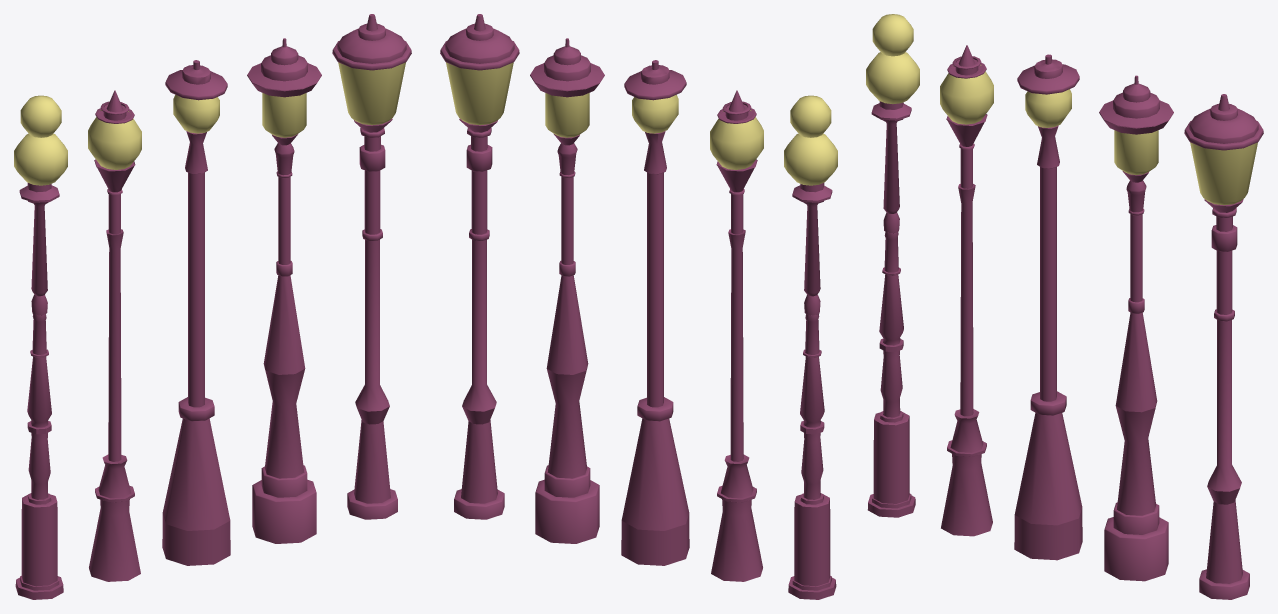
File: Lamps_low.fbx
3 views of the same model, side by side, from view 1: azimuth 30°, elevation 25°; view 2: azimuth 150°, elevation 25°; view 3: azimuth 330°, elevation 25° (orthographic).
Visible parts, largest first — view 1: 4_low, 3_low, 5_low, 1_low, 2_low; view 2: 4_low, 3_low, 5_low, 1_low, 2_low; view 3: 4_low, 3_low, 5_low, 1_low, 2_low.
Boxes of the visible parts, x1,y1,x2,y2 form: 4_low: (247, 38, 321, 543); 3_low: (162, 60, 230, 565); 5_low: (332, 14, 411, 519); 1_low: (14, 95, 67, 599); 2_low: (88, 90, 141, 581); 4_low: (530, 38, 604, 543); 3_low: (621, 60, 689, 565); 5_low: (440, 14, 519, 519); 1_low: (784, 95, 837, 599); 2_low: (710, 90, 763, 581); 4_low: (1099, 75, 1173, 581); 3_low: (1014, 54, 1082, 560); 5_low: (1184, 94, 1263, 599); 1_low: (866, 14, 919, 517); 2_low: (940, 45, 993, 536).
Size of the model in its own units: 274 by 333 by 48.6.
